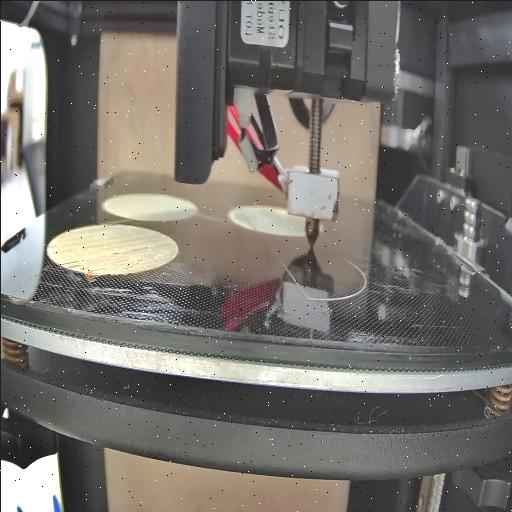under_extrusion: (59, 256, 89, 276), (110, 244, 152, 258), (91, 264, 107, 276), (46, 241, 60, 253)
